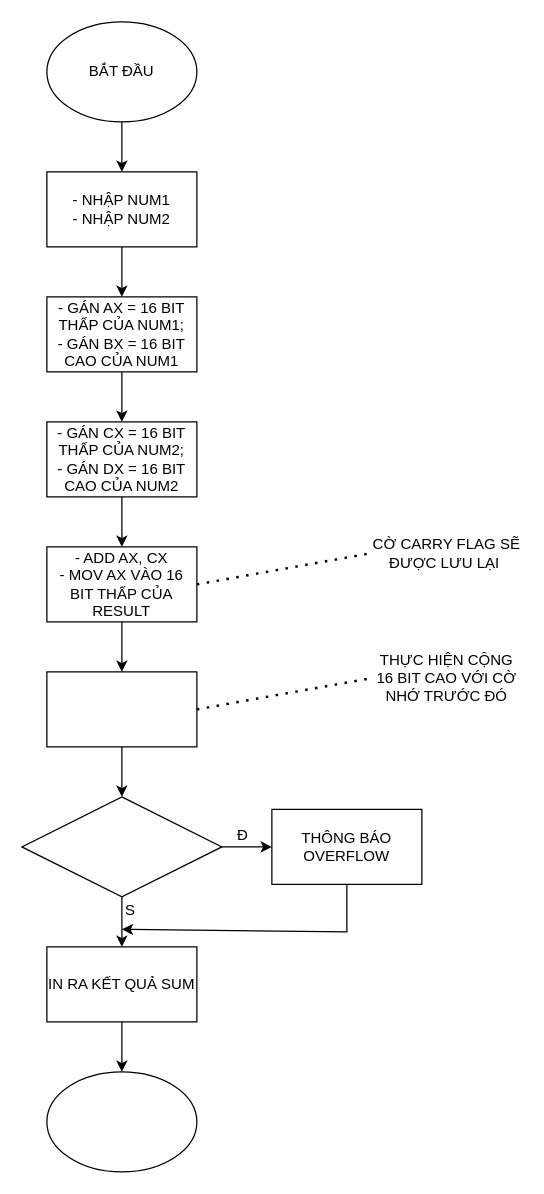
Image size: 544x1194. Some labels were removed from this diagram. The shapes that lost their labels are listed below. From the top down, each one's centre as x and y in pixels, then its label:
At (x=121, y=709): "- ADC BX, DX - MOV BX VÀO 16 BIT CAO CỦA RESULT".
At (x=121, y=846): "NẾU OVERFLOW FLAG = 1 ?".
At (x=121, y=1121): "KẾT THÚC".
